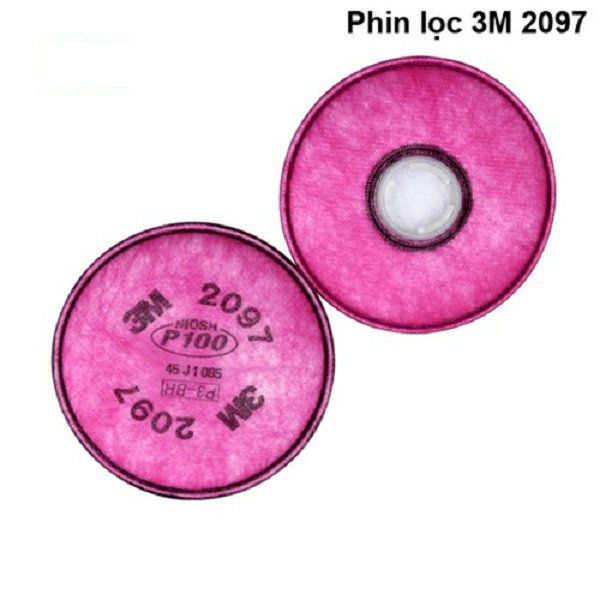3M: (210, 377, 269, 434), (118, 285, 177, 338)
